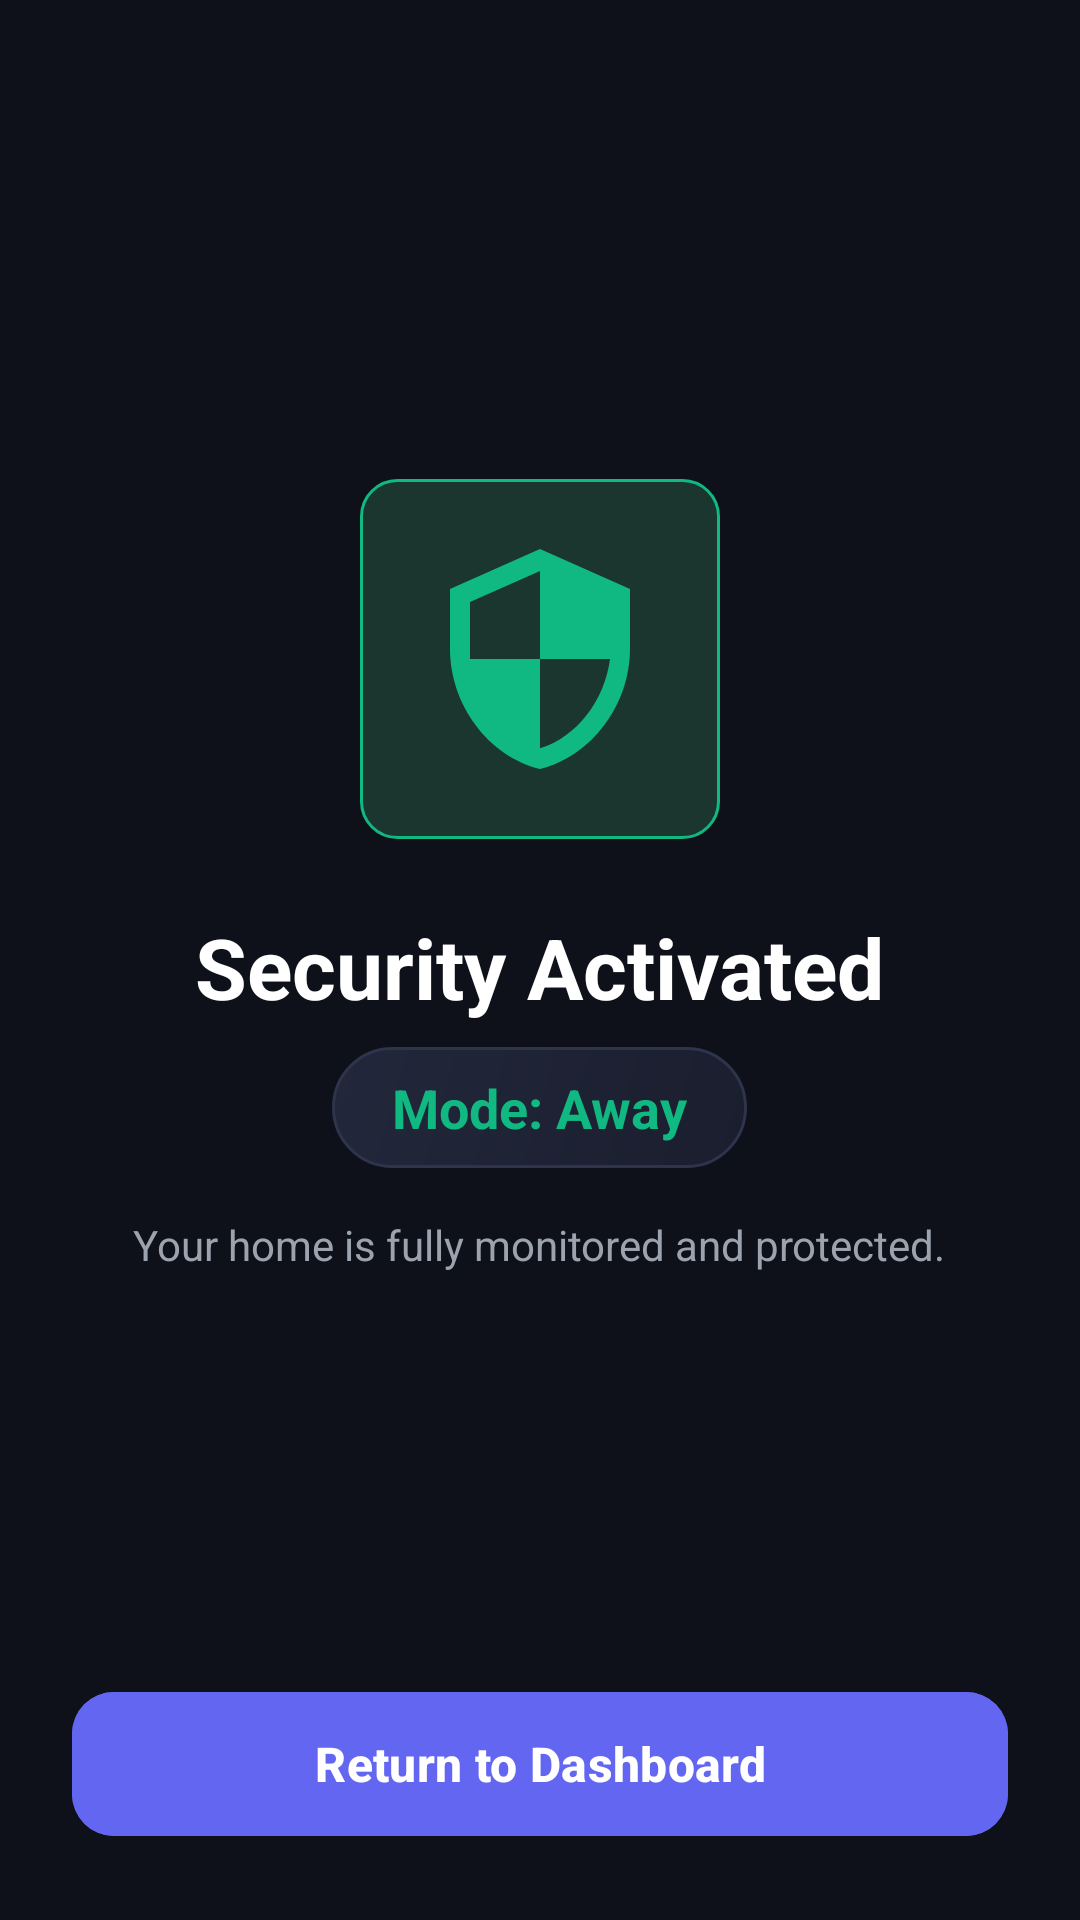

Named icons in this screenshot (1080px x 1920px) and their bounding boxes, {"x1": x1, "y1": y1, "x2": x2, "y2": y2}:
shield: {"x1": 450, "y1": 549, "x2": 630, "y2": 769}
